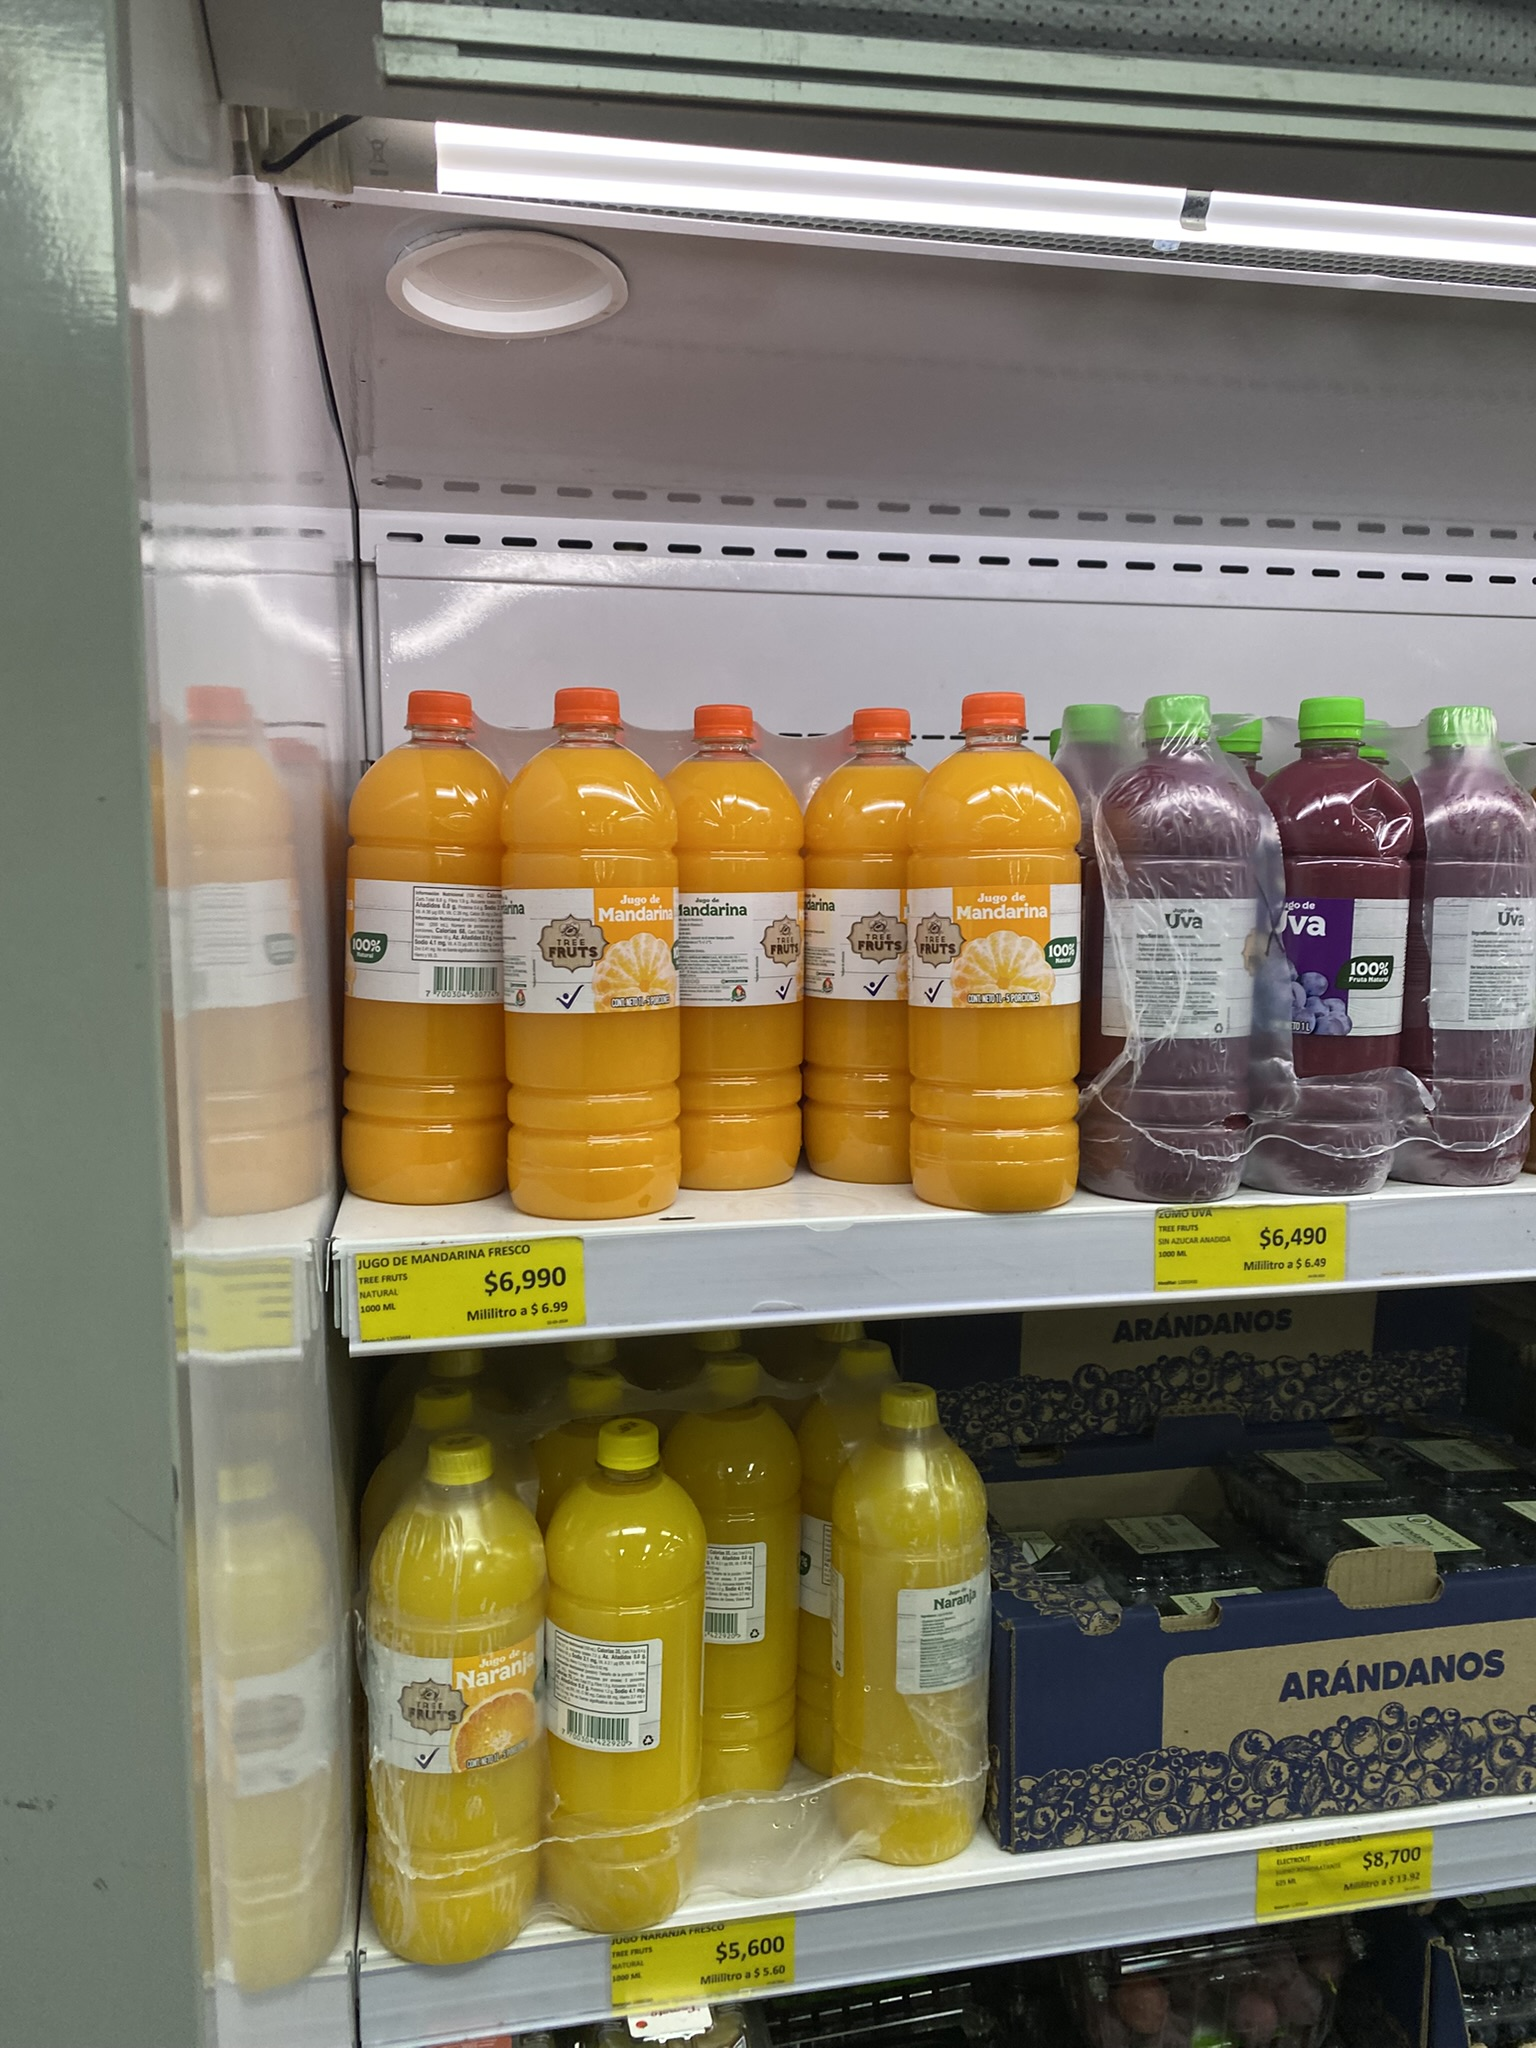Jugo de Mandarina: (490, 693, 700, 1219), (321, 701, 507, 1216), (908, 692, 1081, 1200), (663, 710, 810, 1198), (787, 710, 912, 1187)
